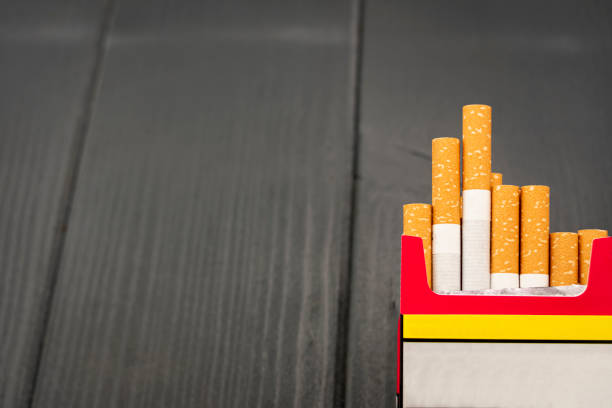cigarette: (399, 233, 612, 408), (461, 103, 492, 291), (430, 136, 461, 291), (520, 184, 551, 289), (491, 184, 520, 291), (401, 202, 432, 291), (579, 228, 609, 284), (551, 229, 579, 285), (491, 171, 504, 184)
